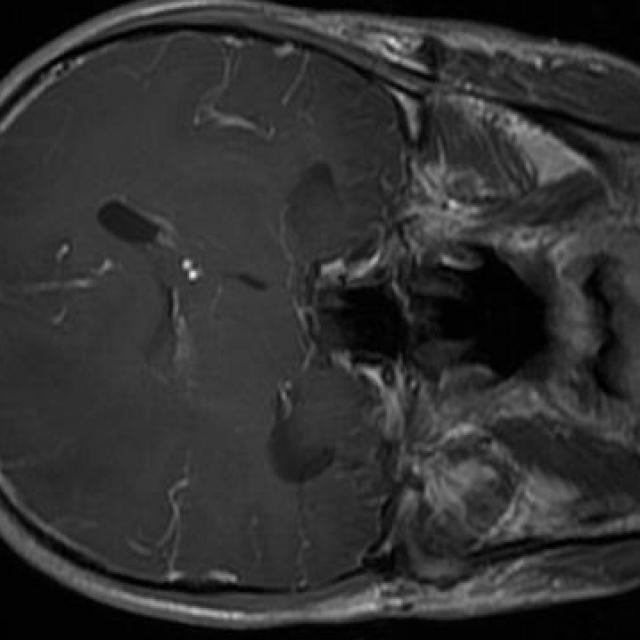glioma: (153, 258, 201, 365)
